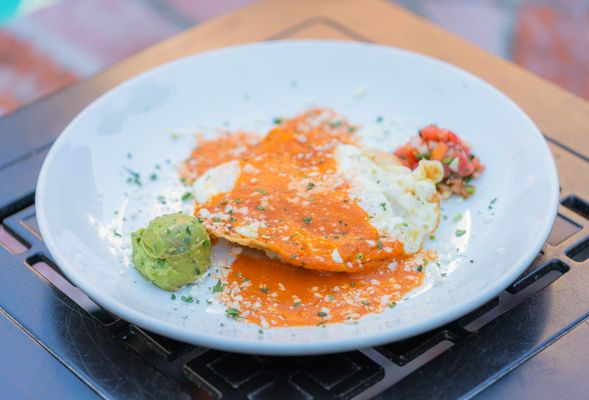sushi: (32, 14, 572, 375)
